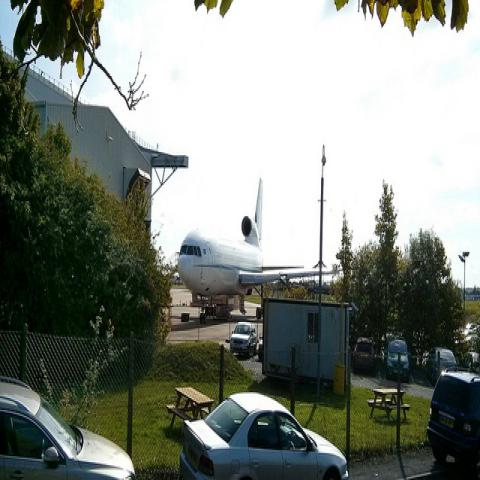car: (179, 389, 349, 475), (0, 374, 134, 472), (429, 370, 479, 472), (425, 347, 458, 385), (352, 338, 380, 378), (230, 322, 257, 361), (388, 338, 409, 373), (464, 322, 477, 337), (257, 335, 263, 360)
